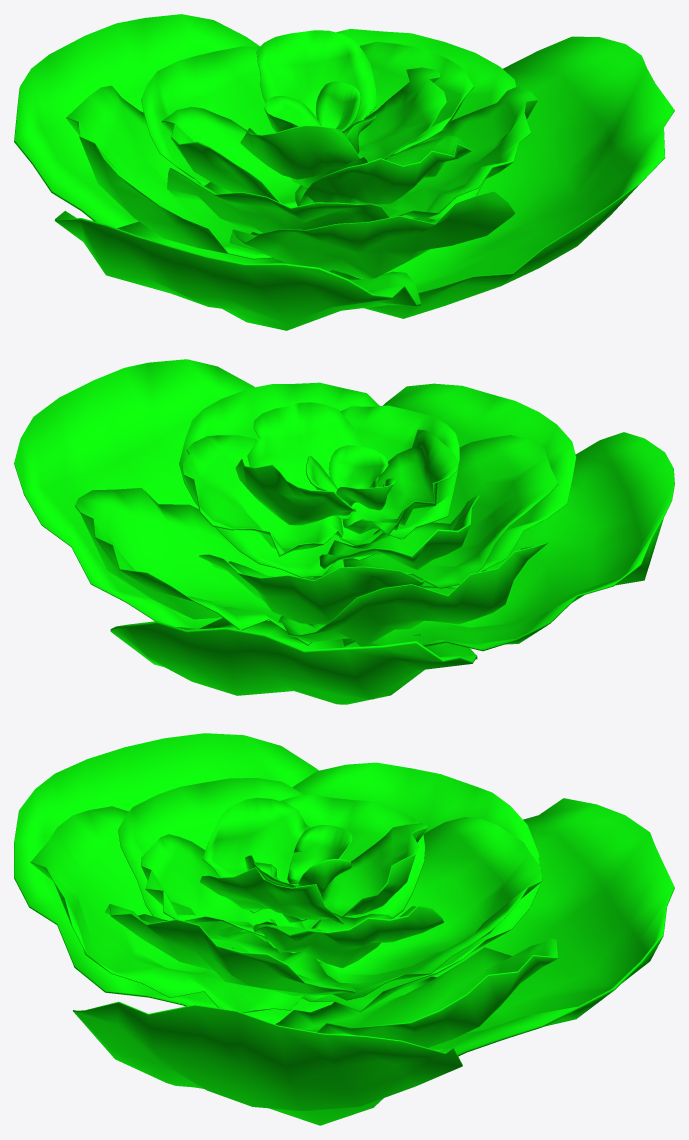
Rendered from laitue.fbx.
The picture shows the model from 3 angles, top to bottom: view 1: azimuth 30°, elevation 25°; view 2: azimuth 150°, elevation 25°; view 3: azimuth 270°, elevation 25°; orthographic projection. The views are drawn at different scales.
Parts seen in each view (by area): view 1: Plane.001, Plane, Plane.002, Plane.003, Plane.005, Plane.007, Plane.008, Plane.014, Plane.010, Plane.009, Plane.006, Plane.013 (+5 smaller); view 2: Plane.001, Plane.002, Plane, Plane.004, Plane.006, Plane.005, Plane.003, Plane.008, Plane.011, Plane.007, Plane.012, Plane.009 (+6 smaller); view 3: Plane, Plane.001, Plane.002, Plane.005, Plane.007, Plane.004, Plane.003, Plane.008, Plane.006, Plane.009, Plane.013, Plane.011 (+5 smaller).
Boxes of the visible parts, <box> form: Plane.001: <box>351,36,674,318</box>; Plane: <box>14,14,259,228</box>; Plane.002: <box>54,211,421,330</box>; Plane.003: <box>66,85,273,259</box>; Plane.005: <box>229,191,515,279</box>; Plane.007: <box>141,46,275,185</box>; Plane.008: <box>375,86,537,219</box>; Plane.014: <box>256,30,377,127</box>; Plane.010: <box>161,107,314,207</box>; Plane.009: <box>295,135,473,206</box>; Plane.006: <box>167,168,389,233</box>; Plane.013: <box>240,125,367,187</box>; Plane.001: <box>14,359,312,628</box>; Plane.002: <box>342,432,674,651</box>; Plane: <box>110,618,477,704</box>; Plane.004: <box>75,488,312,645</box>; Plane.006: <box>343,435,558,588</box>; Plane.005: <box>313,383,576,588</box>; Plane.003: <box>278,542,548,645</box>; Plane.008: <box>179,382,379,577</box>; Plane.011: <box>182,435,343,556</box>; Plane.007: <box>199,554,424,624</box>; Plane.012: <box>247,402,364,519</box>; Plane.009: <box>339,405,459,545</box>; Plane: <box>333,798,674,1056</box>; Plane.001: <box>73,1001,462,1125</box>; Plane.002: <box>14,733,334,1023</box>; Plane.005: <box>30,806,304,1013</box>; Plane.007: <box>319,817,542,1000</box>; Plane.004: <box>275,938,558,1047</box>; Plane.003: <box>292,762,540,1012</box>; Plane.008: <box>105,904,355,995</box>; Plane.006: <box>118,778,322,963</box>; Plane.009: <box>141,834,304,942</box>; Plane.013: <box>202,797,310,922</box>; Plane.011: <box>253,905,443,968</box>.
Bounding box in the file's own units: 358 × 134 × 325.
